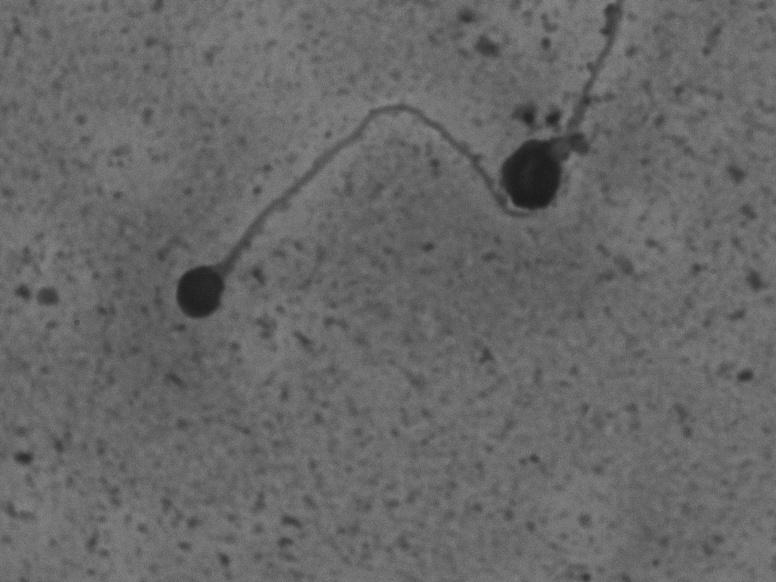Abnormal: (162, 92, 517, 324), (496, 6, 643, 236)
